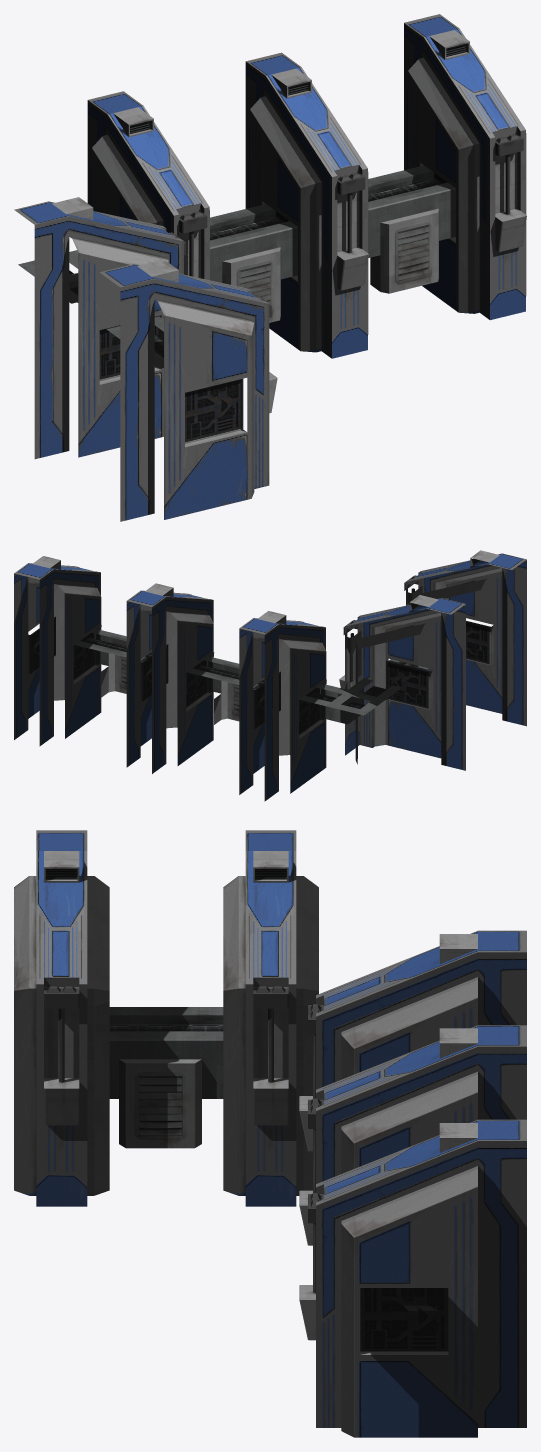
File: ML2_Construct_L.FBX
3 views of the same model, one above another, from view 1: azimuth 30°, elevation 25°; view 2: azimuth 150°, elevation 25°; view 3: azimuth 270°, elevation 25° (orthographic). The views are drawn at different scales.
Parts seen in each view (by area): view 1: ML2_Construct_L; view 2: ML2_Construct_L; view 3: ML2_Construct_L.
Part boxes in pixels (x1,y1,x2,y2): ML2_Construct_L: (14,14,526,521); ML2_Construct_L: (14,550,526,801); ML2_Construct_L: (14,830,526,1437).
Bounding box in the file's own units: 27.65 × 11.56 × 18.72.
1 material, 1 textured.
